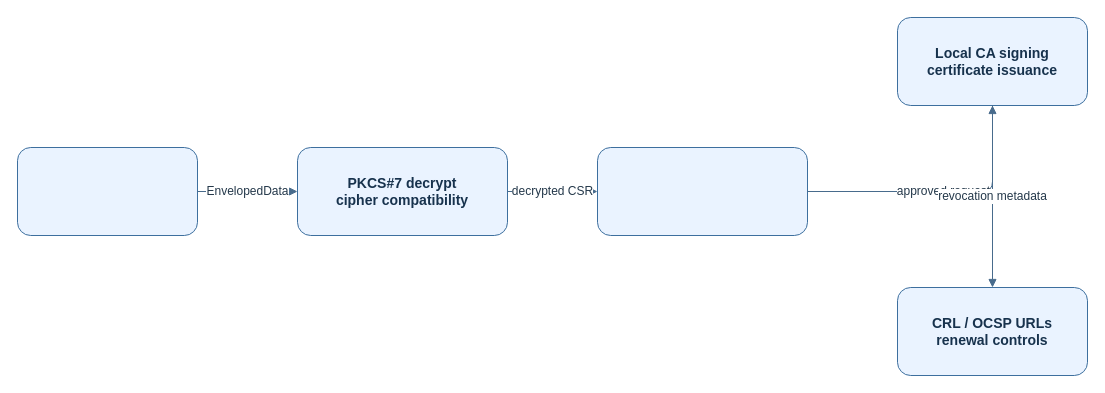
This 1105x393 diagram has some shape labels left out. The centre of each missing label's shape, as x and y in pixels:
Challenge + subject and template checks: [702,191]
SCEP client PKCS#7 CSR: [107,191]
